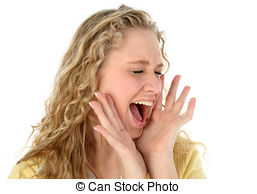face: (63, 3, 172, 142)
